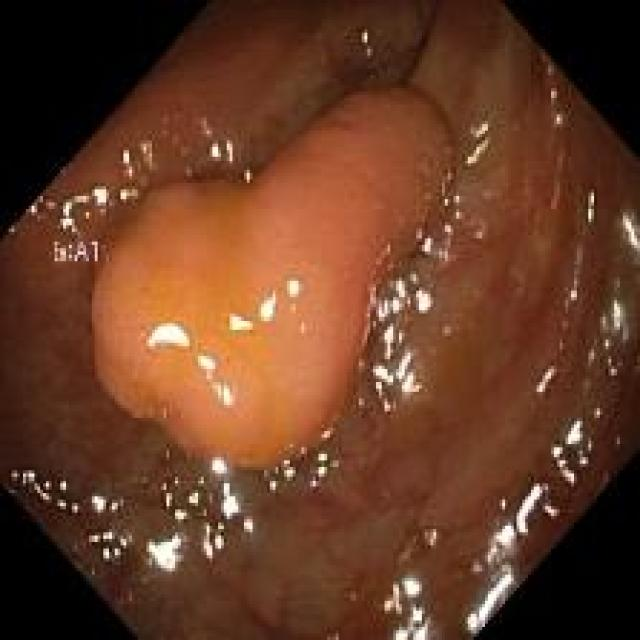Polyps: (92, 87, 455, 468)
